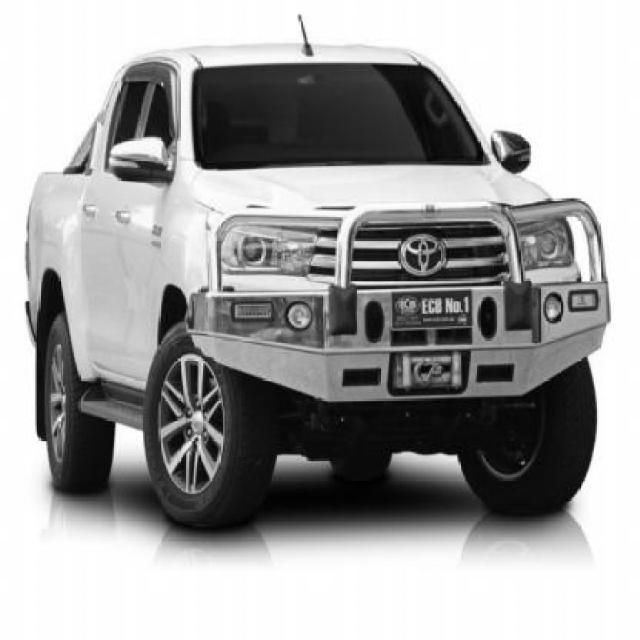Construction Equipment: (22, 18, 613, 534)
